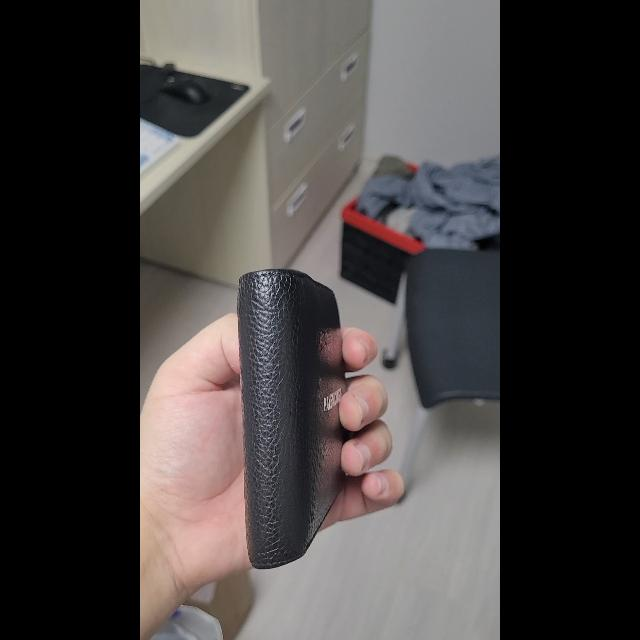WALLET: (237, 268, 349, 570)
